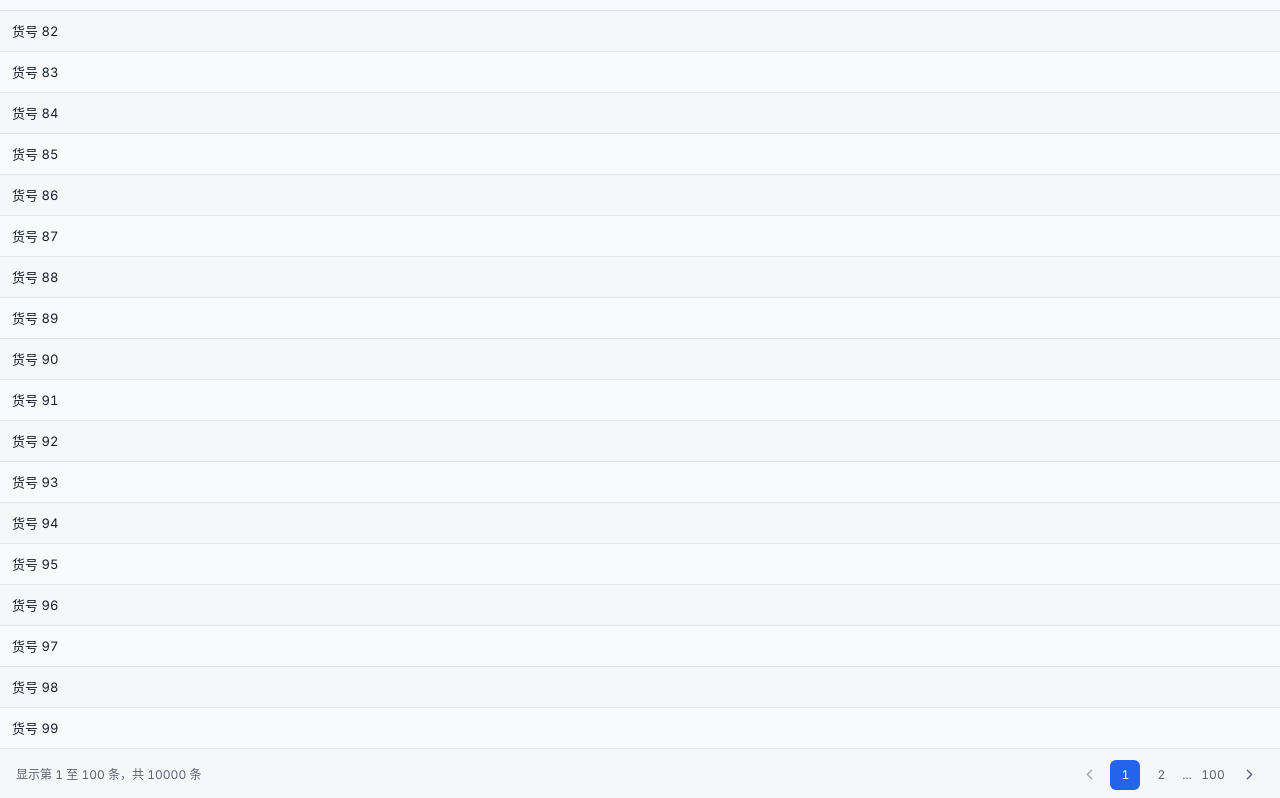
Scenario: DataTable navigation › renders only the selected page of a large list without a second vertical viewport
(page scrolled)
Check: the row "货号 99" is shown, box [0,708,1279,748]
Click the button named "下一页" at x=1249, y=774, box [1234,760,1264,790]
(page scrolled)
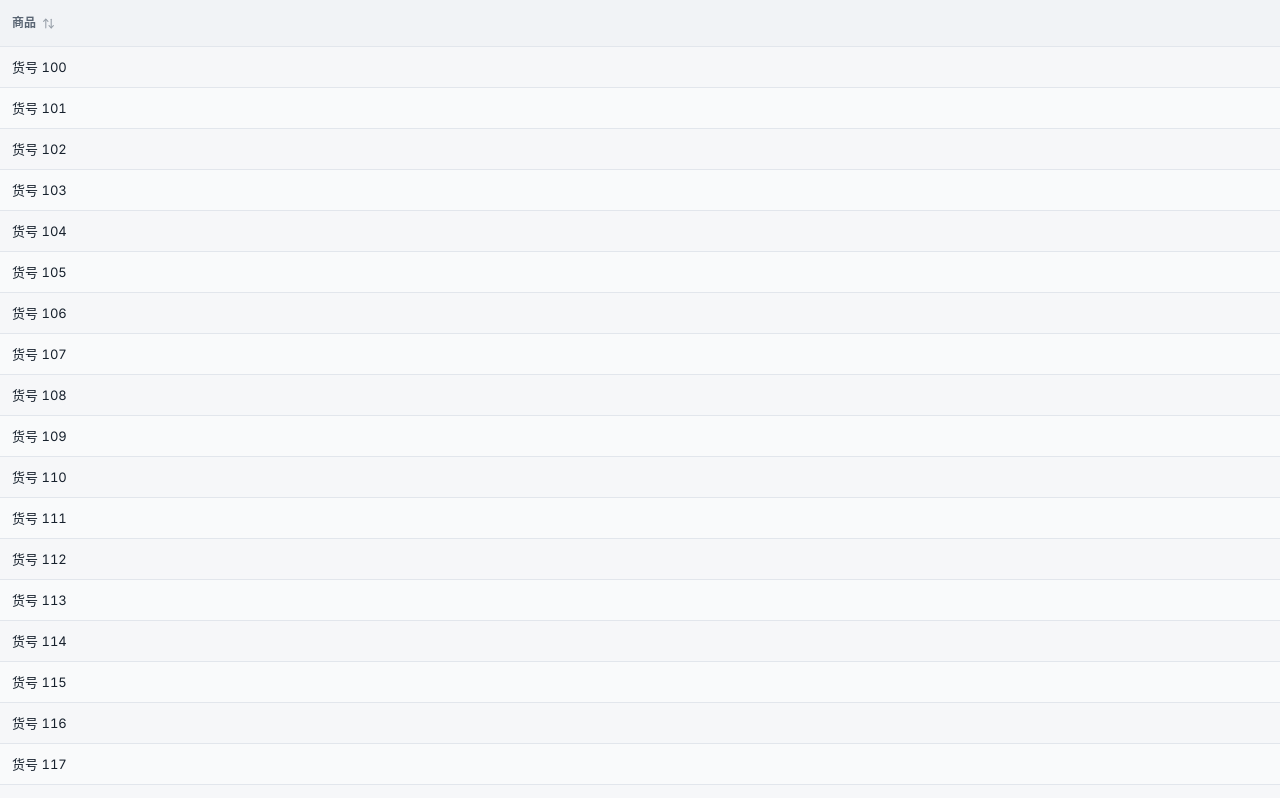
Check: the row "货号 100" is shown, box [0,46,1279,88]
